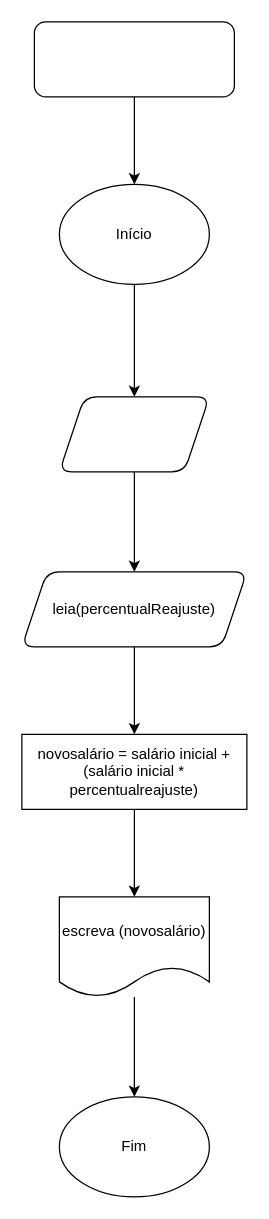
Image size: 269x1219. Some labels were removed from this diagram. Each missing label, with the centre of its shape:
CalculaReajusteSalarial: the point at 133,59
leia(salário): the point at 133,434
